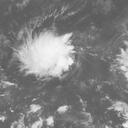cyclone: (16, 32, 73, 78)
